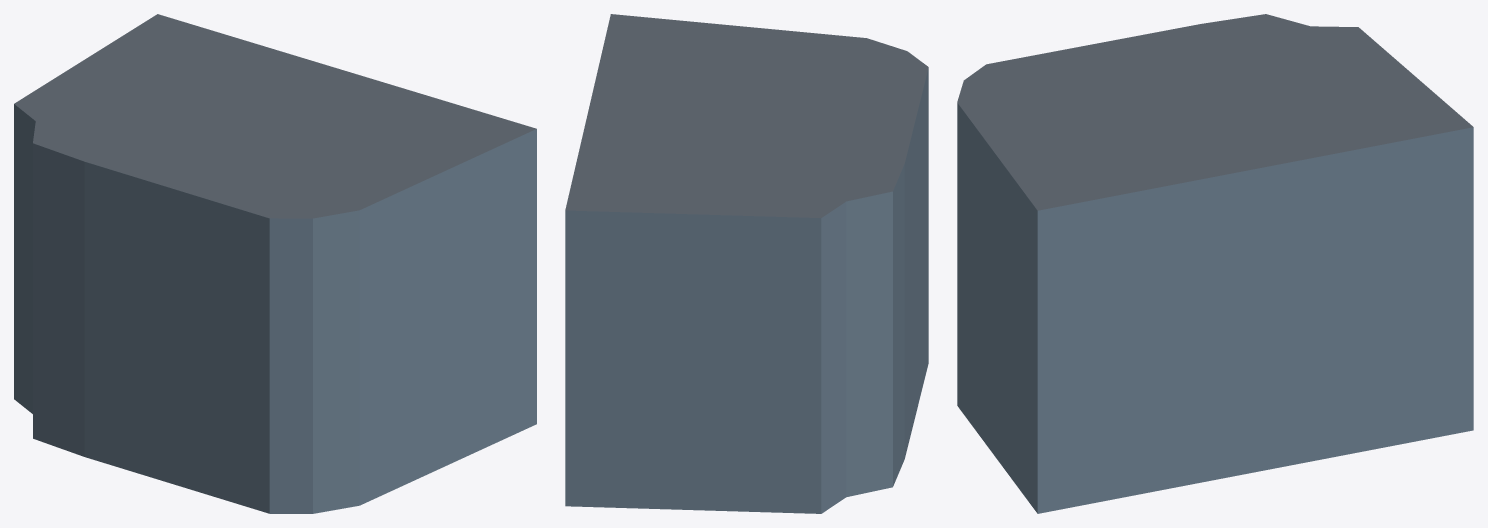
The picture shows the model from 3 angles, left to right: view 1: azimuth 30°, elevation 25°; view 2: azimuth 150°, elevation 25°; view 3: azimuth 270°, elevation 25°; orthographic projection. The views are drawn at different scales.
Visible parts, largest first — view 1: HP-w160964966; view 2: HP-w160964966; view 3: HP-w160964966.
Part boxes in pixels (x1=…): HP-w160964966: x1=14, y1=14, x2=536, y2=513; HP-w160964966: x1=565, y1=14, x2=928, y2=513; HP-w160964966: x1=957, y1=14, x2=1473, y2=513.
Bounding box in the file's own units: 52.89 × 38 × 58.69.
